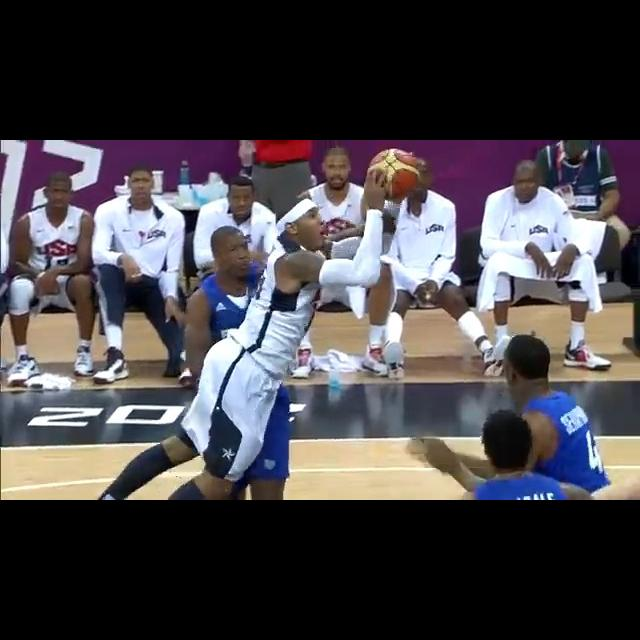basketball: (367, 150, 421, 199)
